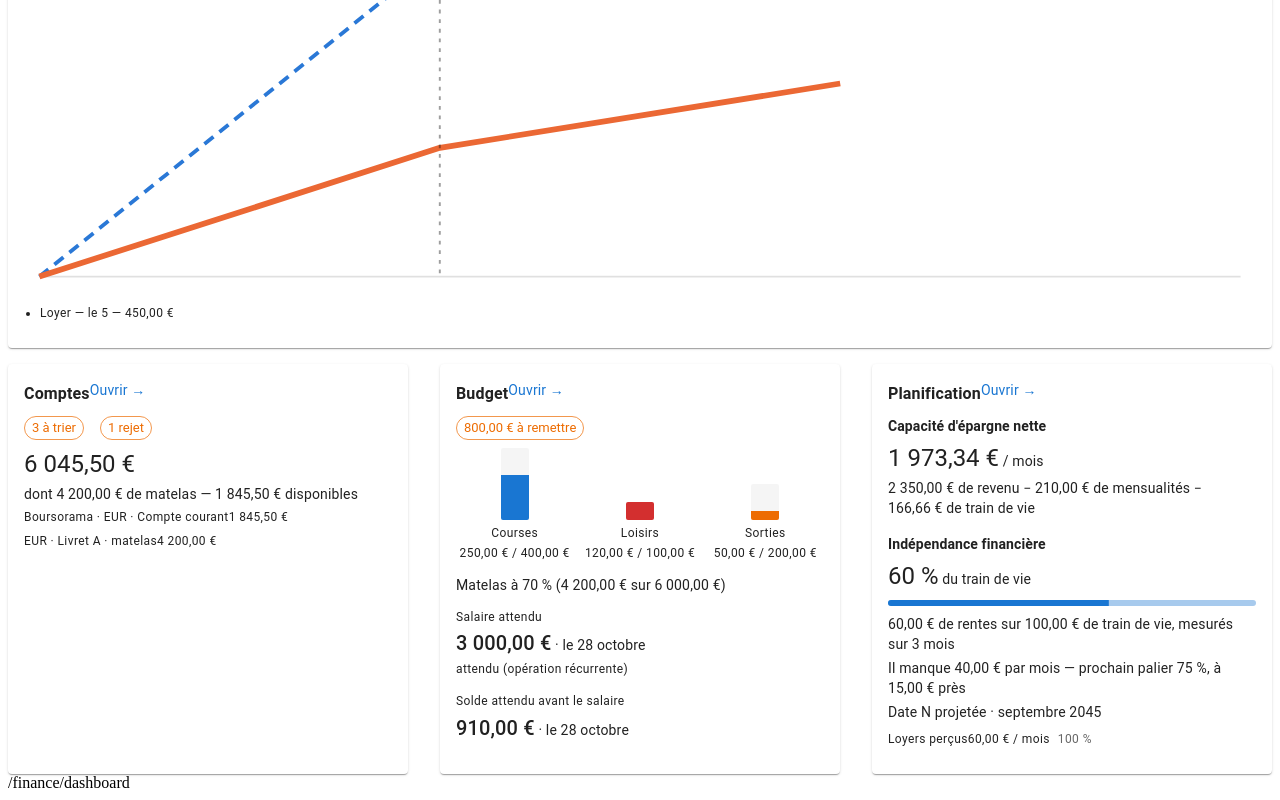
FinanceDashboardPage › the pill pill-rejections opens /accounts/a1/transactions, not the tile
(page scrolled)
Click the link with test id "pill-rejections": (126, 428) [100,416,152,440]
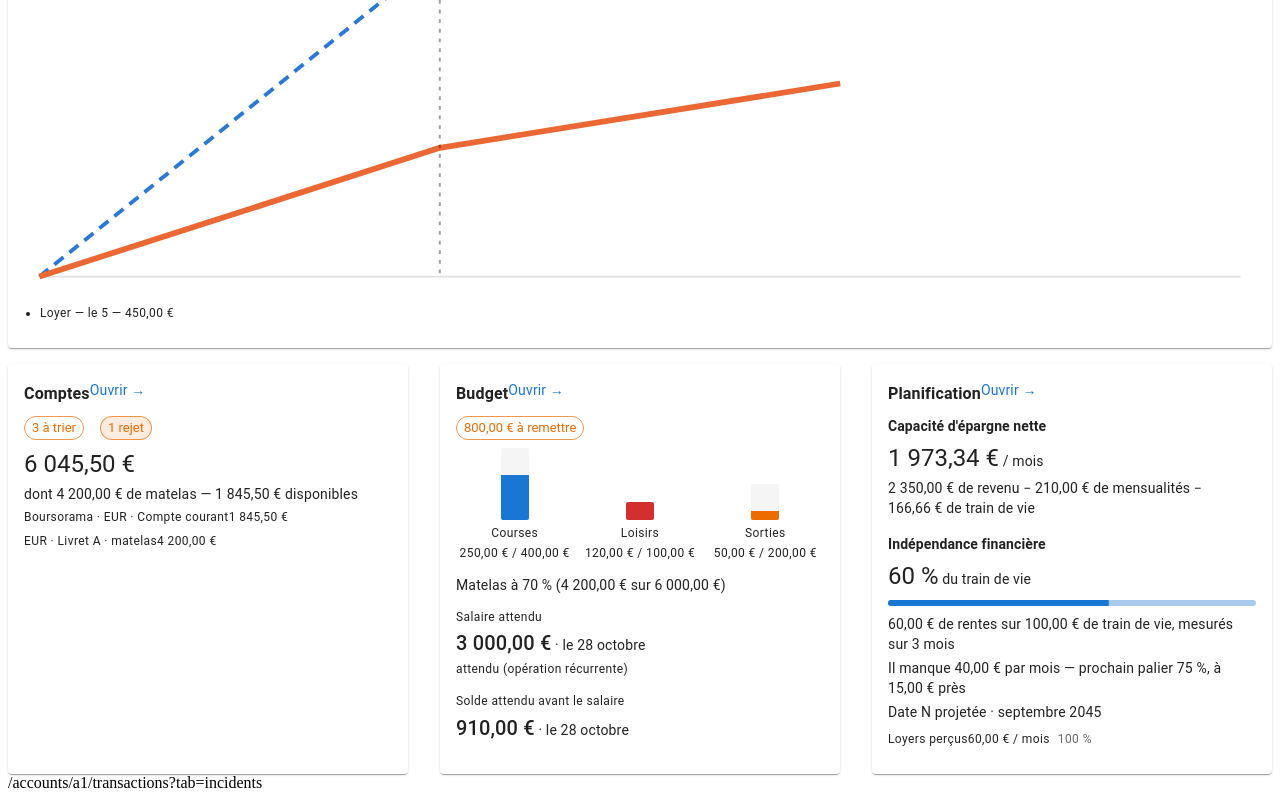
Check: the text with test id "where" shows "/accounts/a1/transactions", box [8,774,262,791]
